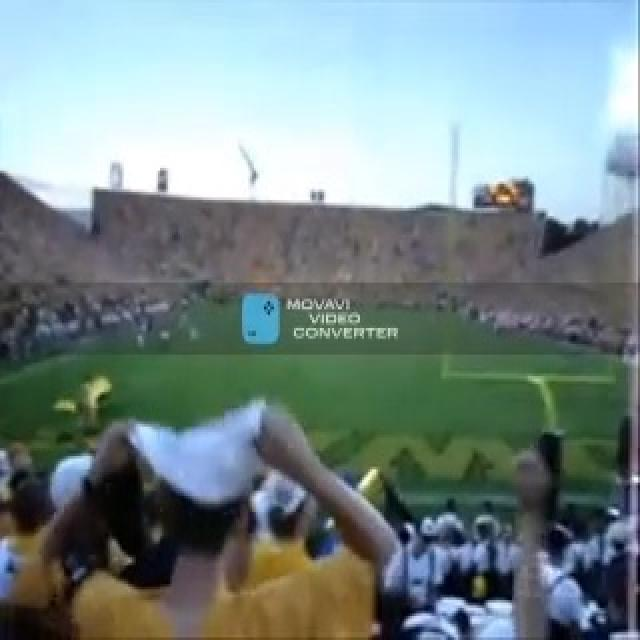non-voilence: (0, 398, 638, 638), (282, 293, 400, 344)
